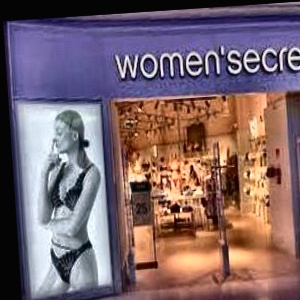women_secret: (217, 16, 300, 54)
